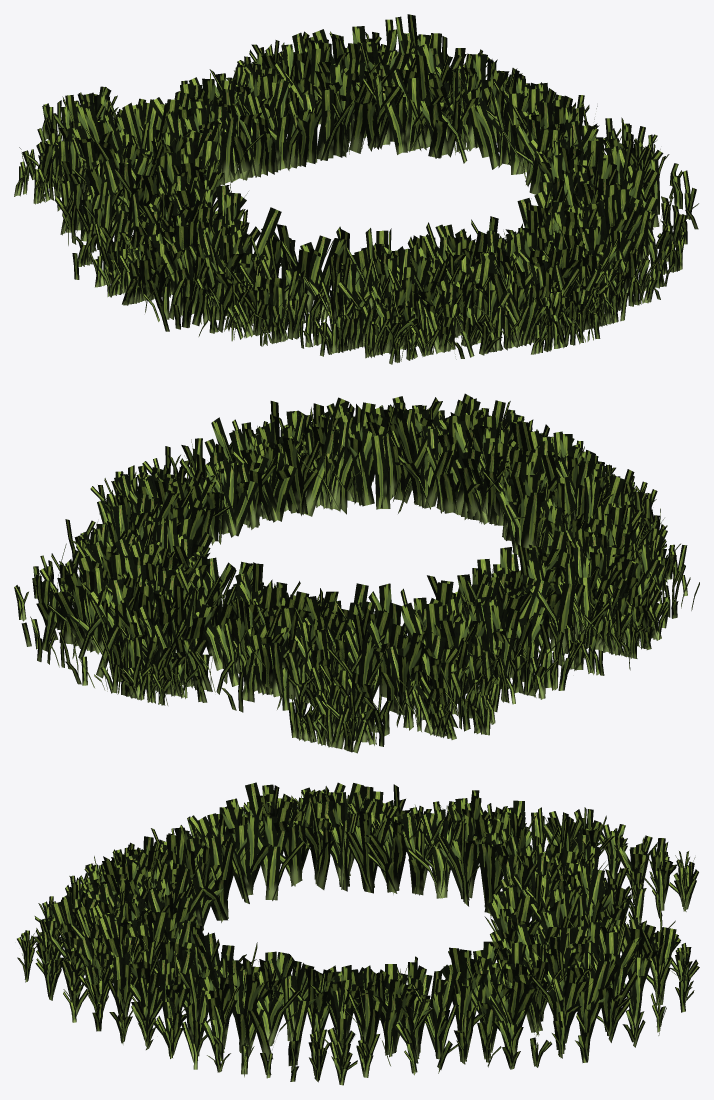
Rendered from BORDER_GRASS_BIRDBATH.FBX.
3 views of the same model, one above another, from view 1: azimuth 30°, elevation 25°; view 2: azimuth 150°, elevation 25°; view 3: azimuth 270°, elevation 25° (orthographic). The views are drawn at different scales.
Parts seen in each view (by area): view 1: BORDER_GRASS_BIRDBATH; view 2: BORDER_GRASS_BIRDBATH; view 3: BORDER_GRASS_BIRDBATH.
Part boxes in pixels (x1,y1,x2,y2): BORDER_GRASS_BIRDBATH: (14,14,698,364); BORDER_GRASS_BIRDBATH: (14,393,699,753); BORDER_GRASS_BIRDBATH: (17,782,699,1085).
Bounding box in the file's own units: 248 × 34.61 × 274.
